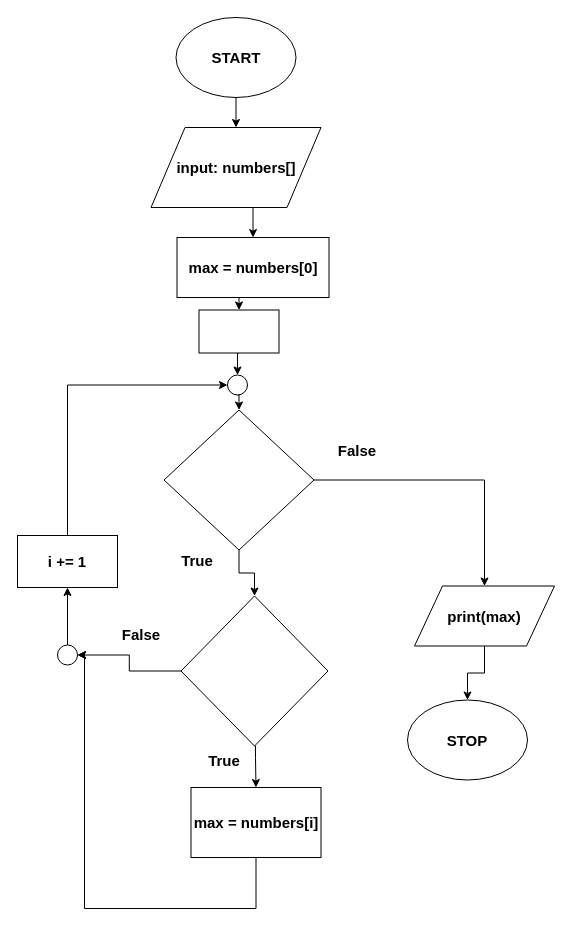
This 572x934 diagram has some shape labels left out. Here are the shapes that lost their labels. From the top down, the centre of each, then its label:
At (238,331): "i = 0".
At (238,479): "i < len(numbers)".
At (254,670): "numbers[i] > max".
